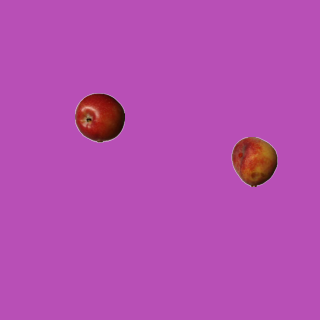Apple Braeburn: (74, 92, 124, 142)
Peach: (229, 136, 279, 186)
